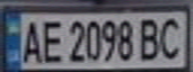0: (84, 16, 103, 63)
2: (63, 16, 87, 63)
8: (115, 16, 139, 62)
9: (100, 17, 121, 62)
A: (18, 17, 45, 65)
B: (136, 15, 163, 62)
C: (154, 14, 187, 61)
E: (39, 16, 66, 64)
